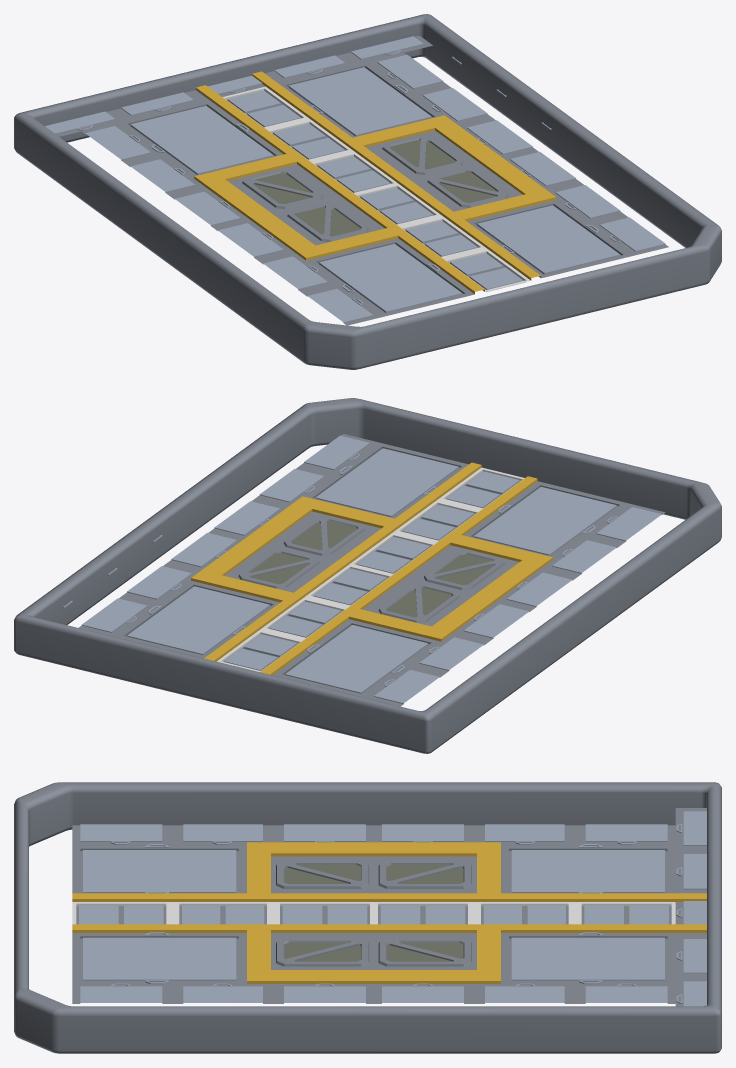
File: Level4_Ground_.fbx
3 renders of one model, top to bottom at view 1: azimuth 30°, elevation 25°; view 2: azimuth 150°, elevation 25°; view 3: azimuth 270°, elevation 25°, orthographic. The views are drawn at different scales.
Visible parts, largest first — view 1: Border, pCube95 (×2), pCube100 (×4), pCube87 (×4), pPlane1 (×4); view 2: Border, pCube95 (×2), pCube100 (×2), pCube87 (×4), pPlane1 (×4); view 3: Border, pCube95 (×2), pCube100 (×4), pCube87 (×4), pPlane1 (×4).
Boxes of the visible parts, x1,y1,x2,y2 form: Border: (14,14,721,369); pCube95 (×2): (82,71,668,293); pCube100 (×4): (45,36,535,325); pCube87 (×4): (242,134,508,241); pPlane1 (×4): (253,140,496,236); Border: (14,398,721,753); pCube95 (×2): (204,434,537,706); pCube100 (×2): (79,481,665,658); pCube87 (×4): (238,515,504,622); pPlane1 (×4): (250,521,493,617); Border: (14,782,721,1053); pCube95 (×2): (72,824,706,1003); pCube100 (×4): (72,808,706,1006); pCube87 (×4): (276,860,471,966); pPlane1 (×4): (284,864,463,961).
Size of the model in its own units: 410 by 36.61 by 530.
